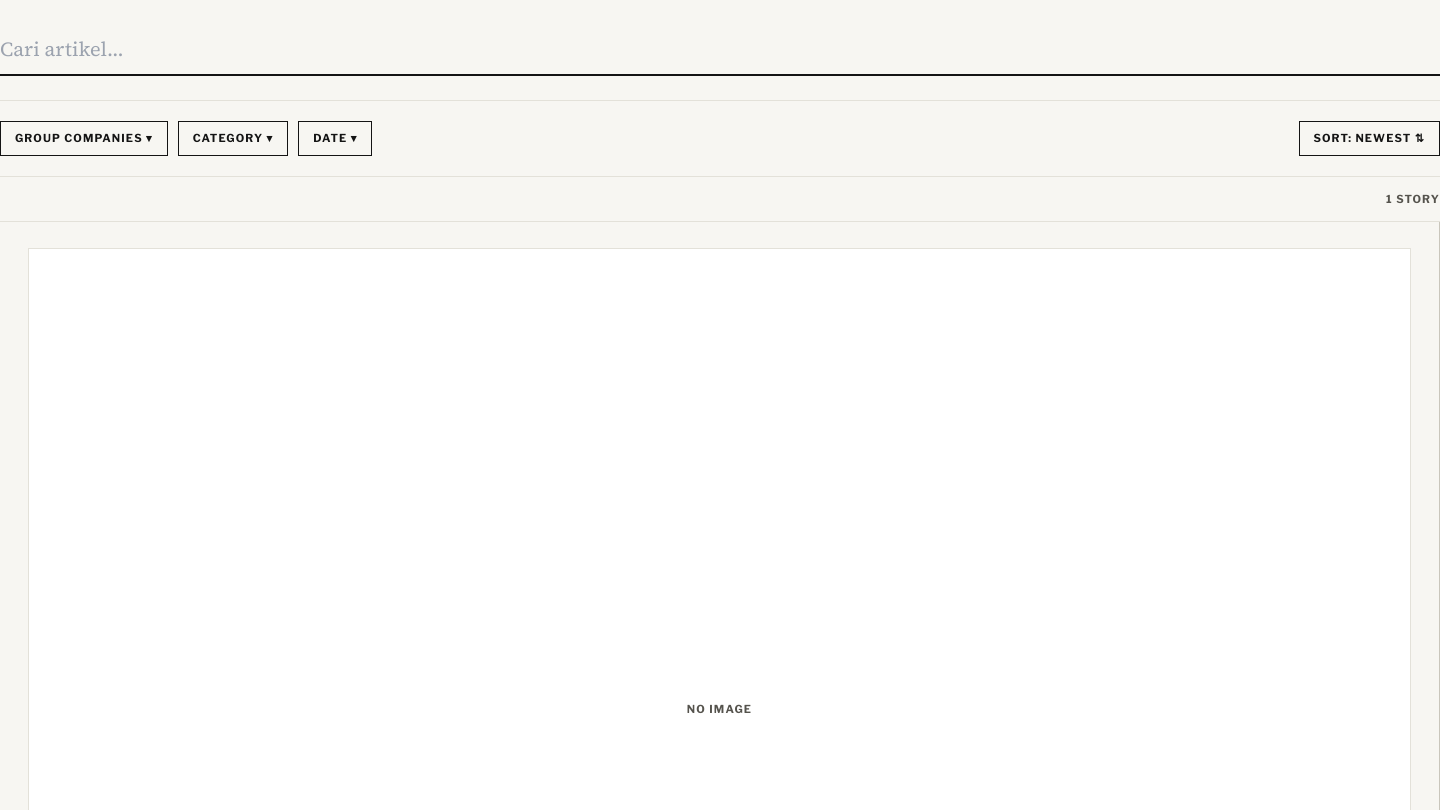
NewsExplorer › sends the search term to the API rather than filtering the loaded page
Type "remote" into the field with placeholder "Cari artikel…" at (720, 50), box x1=0 y1=24 x2=1439 y2=76
(page scrolled)
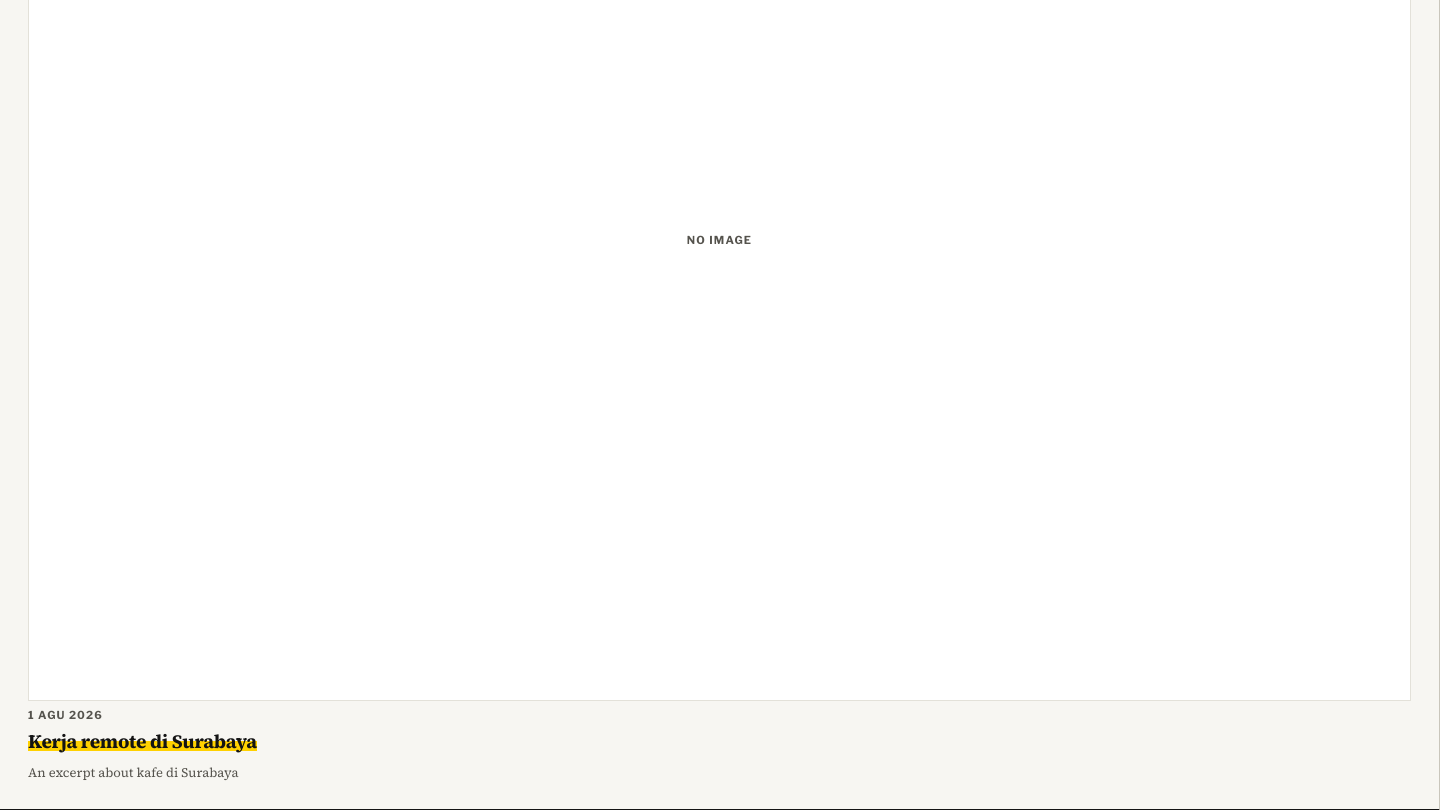
Now the text "Kerja remote di Surabaya" is shown, box x1=28 y1=728 x2=257 y2=754
